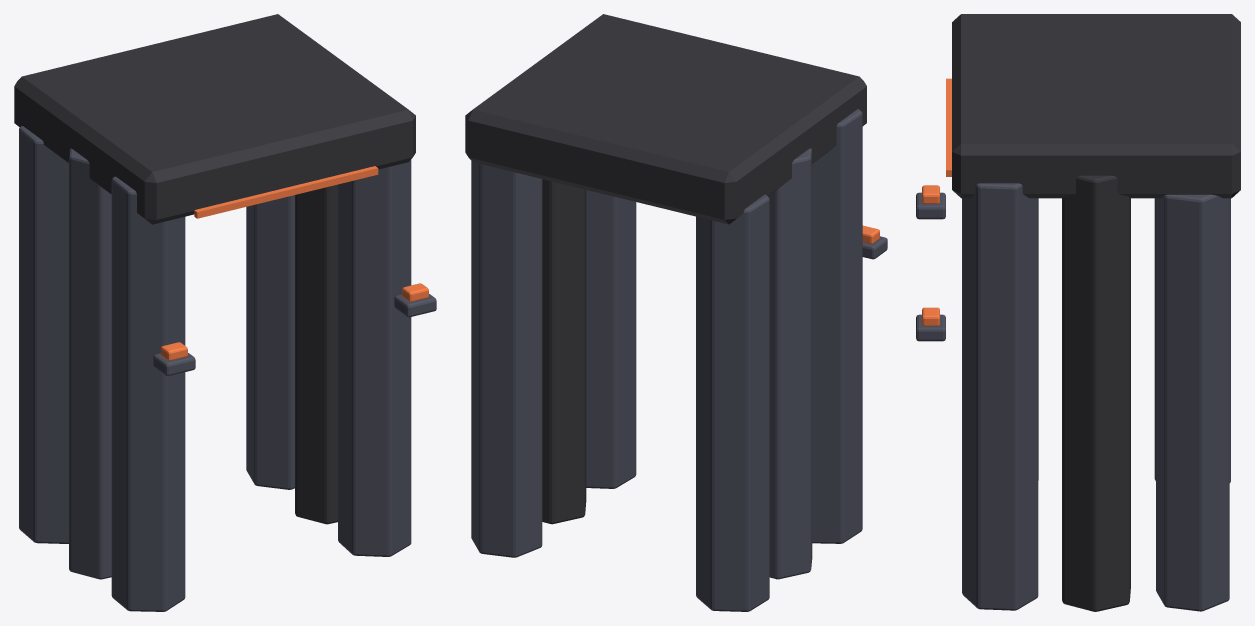
File: basalt-portal.glb
3 renders of one model, left to right at view 1: azimuth 30°, elevation 25°; view 2: azimuth 150°, elevation 25°; view 3: azimuth 270°, elevation 25°, orthographic. The views are drawn at different scales.
Visible parts, largest first — view 1: basalt-portal, glow-basalt-portal; view 2: basalt-portal; view 3: basalt-portal, glow-basalt-portal.
Part boxes in pixels (left/top/right/bottom): basalt-portal: left=14, top=14, right=436, bottom=611; glow-basalt-portal: left=161, top=166, right=428, bottom=360; basalt-portal: left=465, top=14, right=887, bottom=611; basalt-portal: left=916, top=14, right=1240, bottom=611; glow-basalt-portal: left=922, top=78, right=951, bottom=326.
Size of the model in its own units: 1.15 by 1.69 by 1.08.
Materials: 1 (1 with a texture image).
